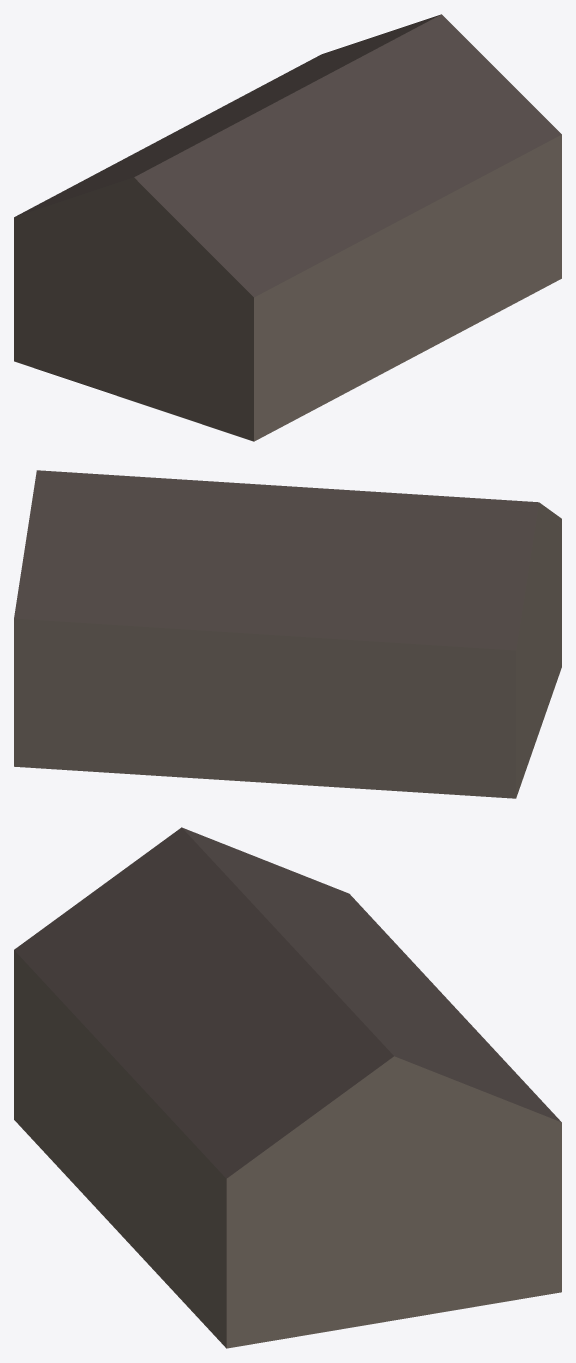
3 views of the same model, one above another, from view 1: azimuth 30°, elevation 25°; view 2: azimuth 150°, elevation 25°; view 3: azimuth 270°, elevation 25° (orthographic). The views are drawn at different scales.
Parts seen in each view (by area): view 1: HP-w369342576; view 2: HP-w369342576; view 3: HP-w369342576.
Boxes of the visible parts, <box> form: HP-w369342576: <box>14,14,561,441</box>; HP-w369342576: <box>14,470,561,798</box>; HP-w369342576: <box>14,827,561,1348</box>.
Bounding box in the file's own units: 21.61 × 9.34 × 17.55.
